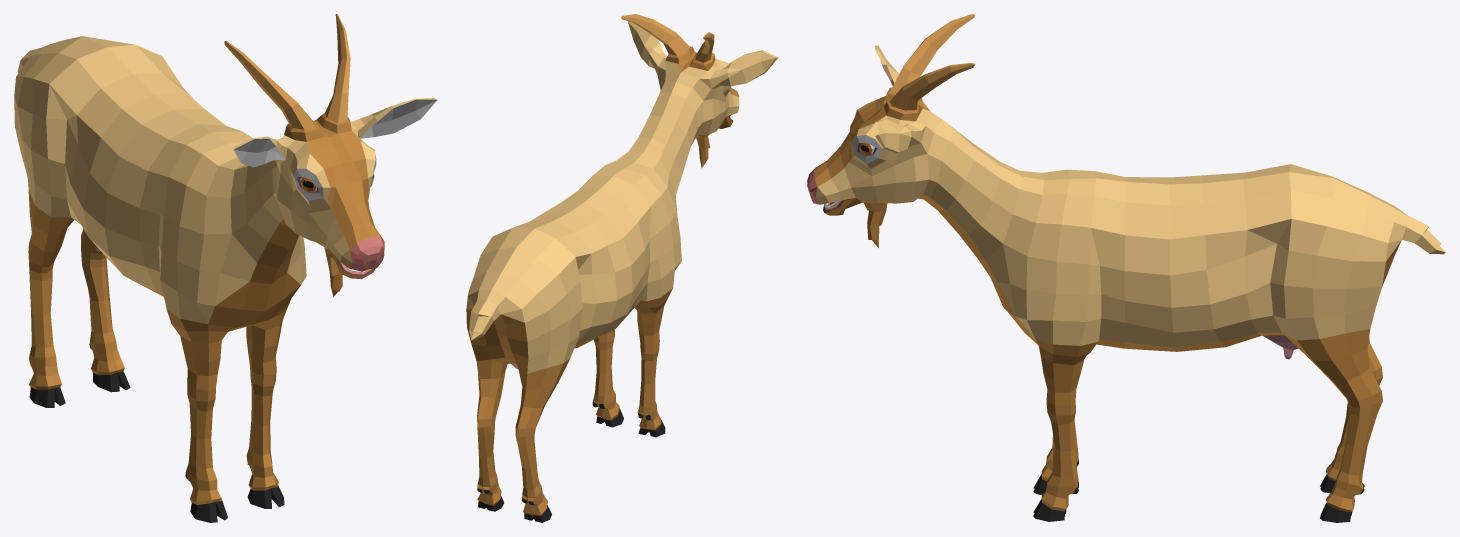
The model's file is LowPoly_Goat_Fem_4.obj.
The picture shows the model from 3 angles, left to right: view 1: azimuth 30°, elevation 25°; view 2: azimuth 150°, elevation 25°; view 3: azimuth 270°, elevation 25°; orthographic projection. The views are drawn at different scales.
Parts seen in each view (by area): view 1: Goat_Fem_4_Cube.003; view 2: Goat_Fem_4_Cube.003; view 3: Goat_Fem_4_Cube.003.
Part boxes in pixels (<box>): Goat_Fem_4_Cube.003: <box>14,14,437,522</box>; Goat_Fem_4_Cube.003: <box>466,14,778,522</box>; Goat_Fem_4_Cube.003: <box>807,14,1445,522</box>.
Size of the model in its own units: 0.3947 by 0.9443 by 1.18.
